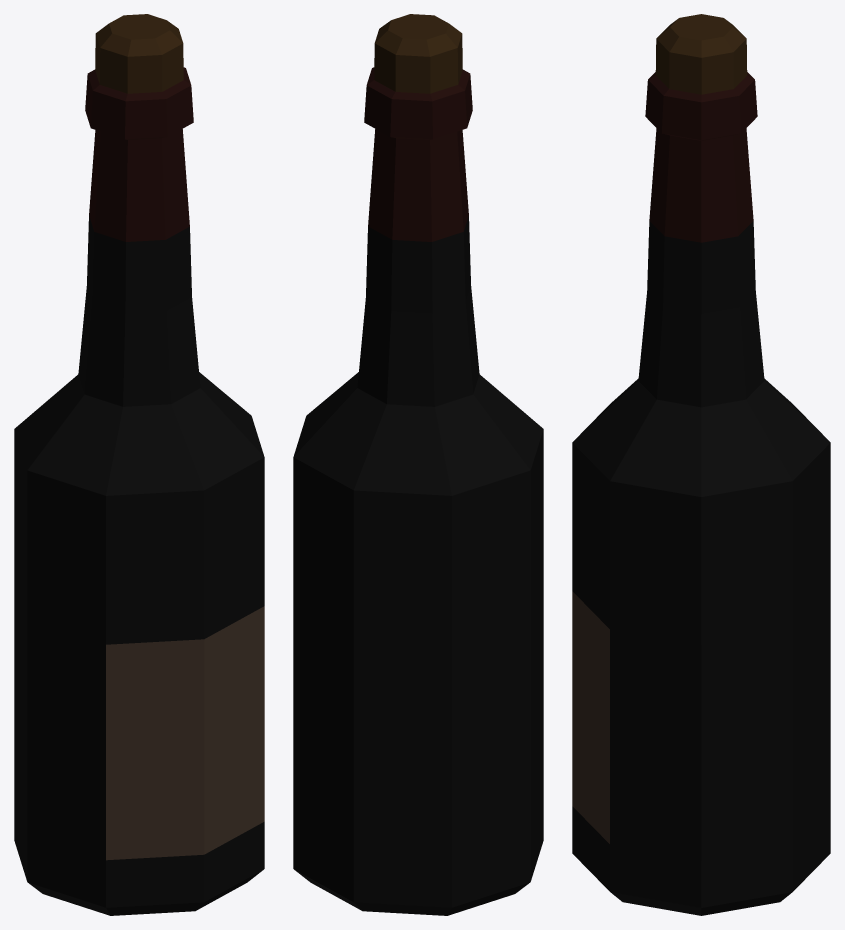
File: Bottle2.obj
3 views of the same model, side by side, from view 1: azimuth 30°, elevation 25°; view 2: azimuth 150°, elevation 25°; view 3: azimuth 270°, elevation 25° (orthographic).
Parts seen in each view (by area): view 1: Bottle2_Cylinder.009; view 2: Bottle2_Cylinder.009; view 3: Bottle2_Cylinder.009.
Boxes of the visible parts, x1,y1,x2,y2 form: Bottle2_Cylinder.009: (14, 14, 264, 915); Bottle2_Cylinder.009: (293, 14, 543, 915); Bottle2_Cylinder.009: (572, 14, 830, 915).
Size of the model in its own units: 0.4517 by 1.62 by 0.4517.
